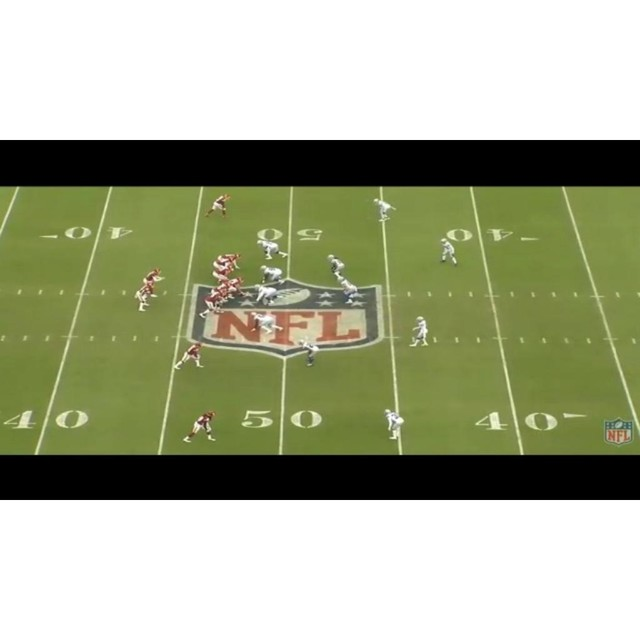american-football-player: (182, 411, 216, 443), (199, 288, 228, 318), (173, 342, 205, 369), (336, 275, 360, 306), (204, 193, 231, 220), (142, 267, 164, 298), (383, 409, 405, 440), (257, 238, 288, 260), (372, 198, 395, 225), (134, 281, 154, 312), (409, 316, 429, 347), (326, 254, 346, 281), (259, 265, 286, 285), (439, 239, 458, 267), (255, 285, 279, 307), (212, 263, 233, 284)
